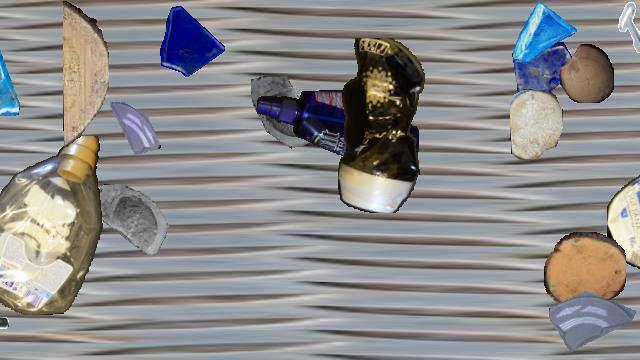glass: (549, 273, 635, 359), (249, 76, 335, 162), (97, 182, 181, 266), (151, 1, 227, 77), (510, 42, 576, 108), (511, 1, 577, 67), (105, 101, 163, 159), (0, 43, 22, 115)
metal: (610, 1, 640, 53), (0, 297, 9, 349)
plastic: (0, 136, 105, 314), (338, 38, 426, 212), (257, 90, 419, 172), (607, 171, 640, 279)
wood: (63, 1, 109, 147), (544, 232, 626, 310), (510, 89, 562, 159), (560, 44, 614, 102)
